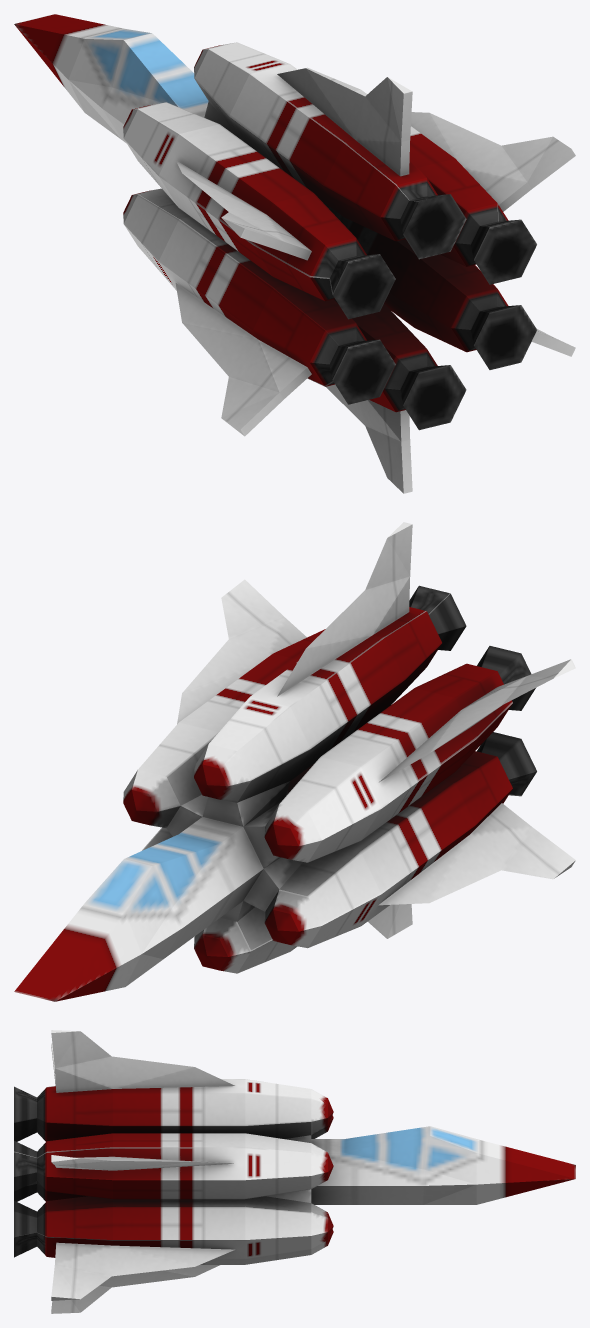
Rendered from spaceship01.dae.
3 views of the same model, one above another, from view 1: azimuth 30°, elevation 25°; view 2: azimuth 150°, elevation 25°; view 3: azimuth 270°, elevation 25° (orthographic). The views are drawn at different scales.
Visible parts, largest first — view 1: Nauyaca; view 2: Nauyaca; view 3: Nauyaca.
Boxes of the visible parts, x1,y1,x2,y2 form: Nauyaca: [14, 14, 575, 493]; Nauyaca: [14, 522, 575, 1001]; Nauyaca: [14, 1030, 575, 1313].
Bounding box in the file's own units: 8.22 × 16.99 × 9.39.
Materials: 1 (1 with a texture image).
